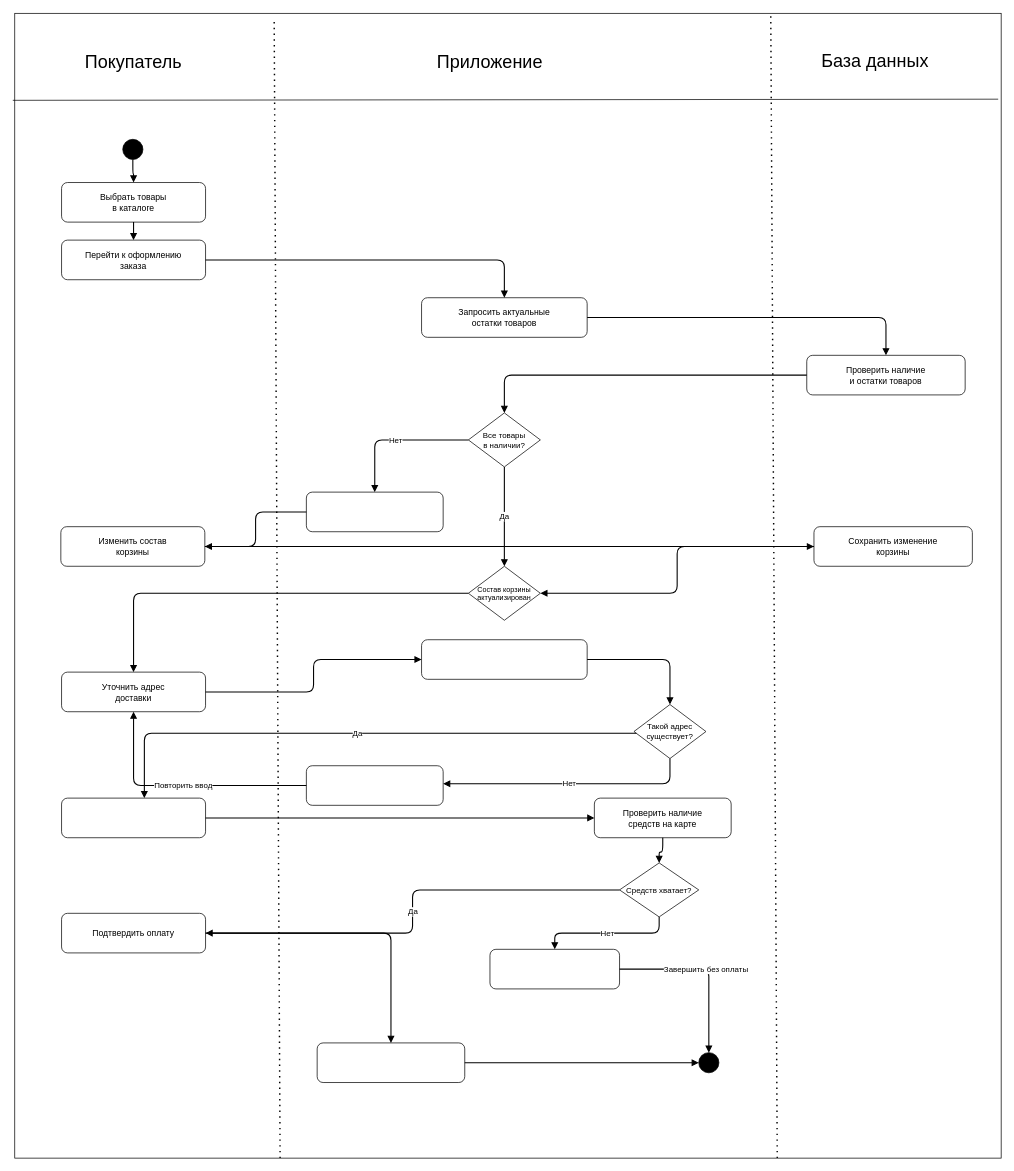
This 1014x1171 diagram has some shape labels left out. The centre of each missing label's shape, as x and y in pixels:
Вывести экран успешного оформления: point (390, 1062)
Перейти к оплате товаров: point (133, 817)
Показать сообщение об отсутствии товаров: point (374, 511)
Показать сообщение об ошибке адреса: point (374, 785)
Предложить пополнить счёт: point (554, 969)
Проверить, существует ли адрес: point (504, 659)
